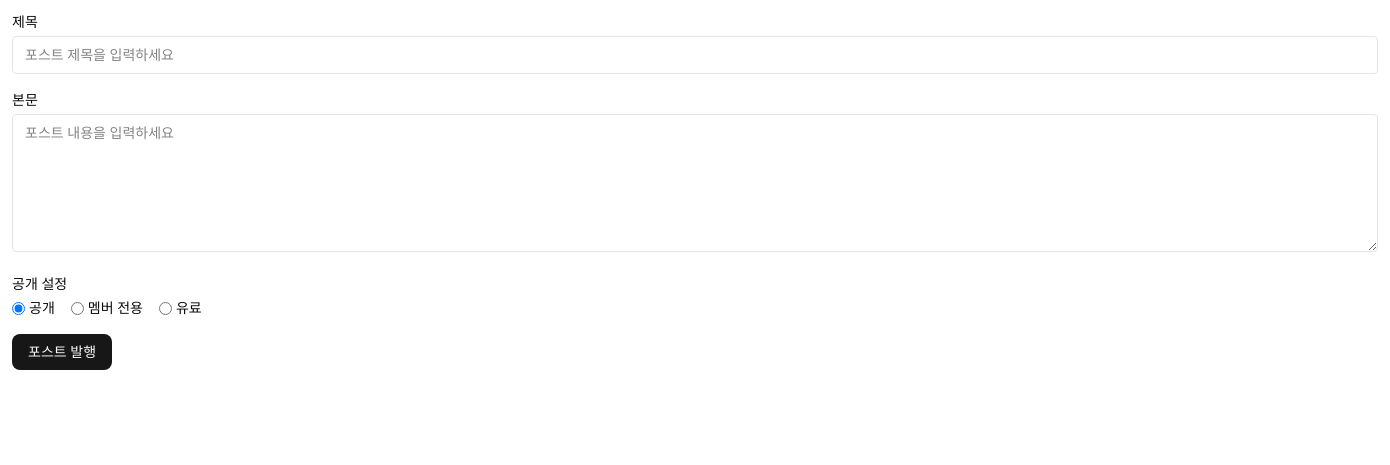
Test: PostCreateForm (FR-012, FR-013) › PAID 선택 시 priceKrw 입력 필드가 나타난다 (FR-013)
The image size is (1390, 465).
Expected: the field labelled "가격 (원)" is not shown
Click the radio button showing "PAID" at {"x": 165, "y": 308}, box left=159, top=302, right=172, bottom=314
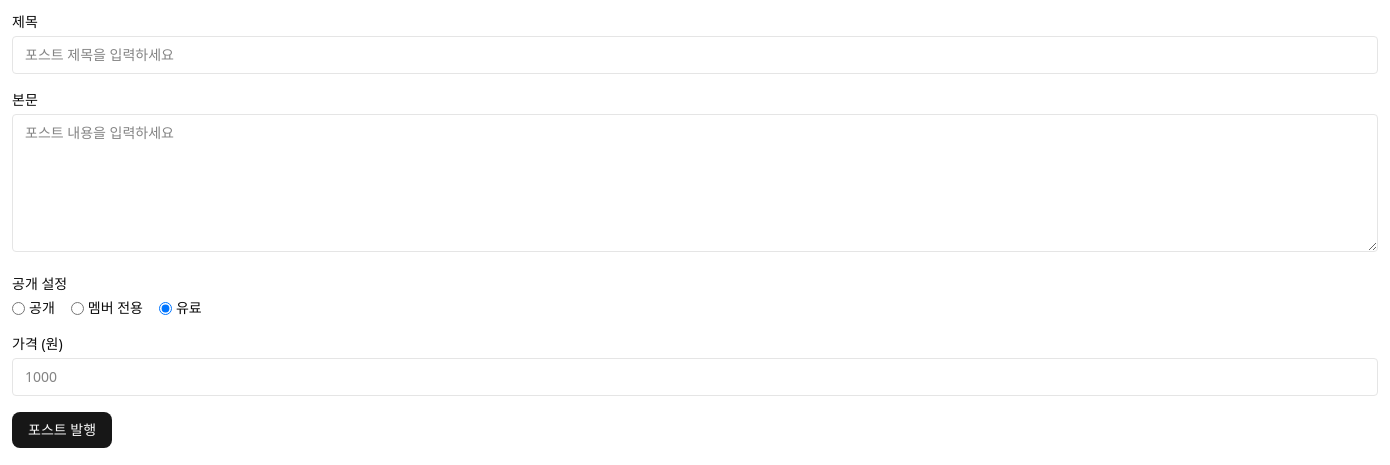
Now the number field labelled "가격 (원)" is shown, box left=12, top=358, right=1378, bottom=396
